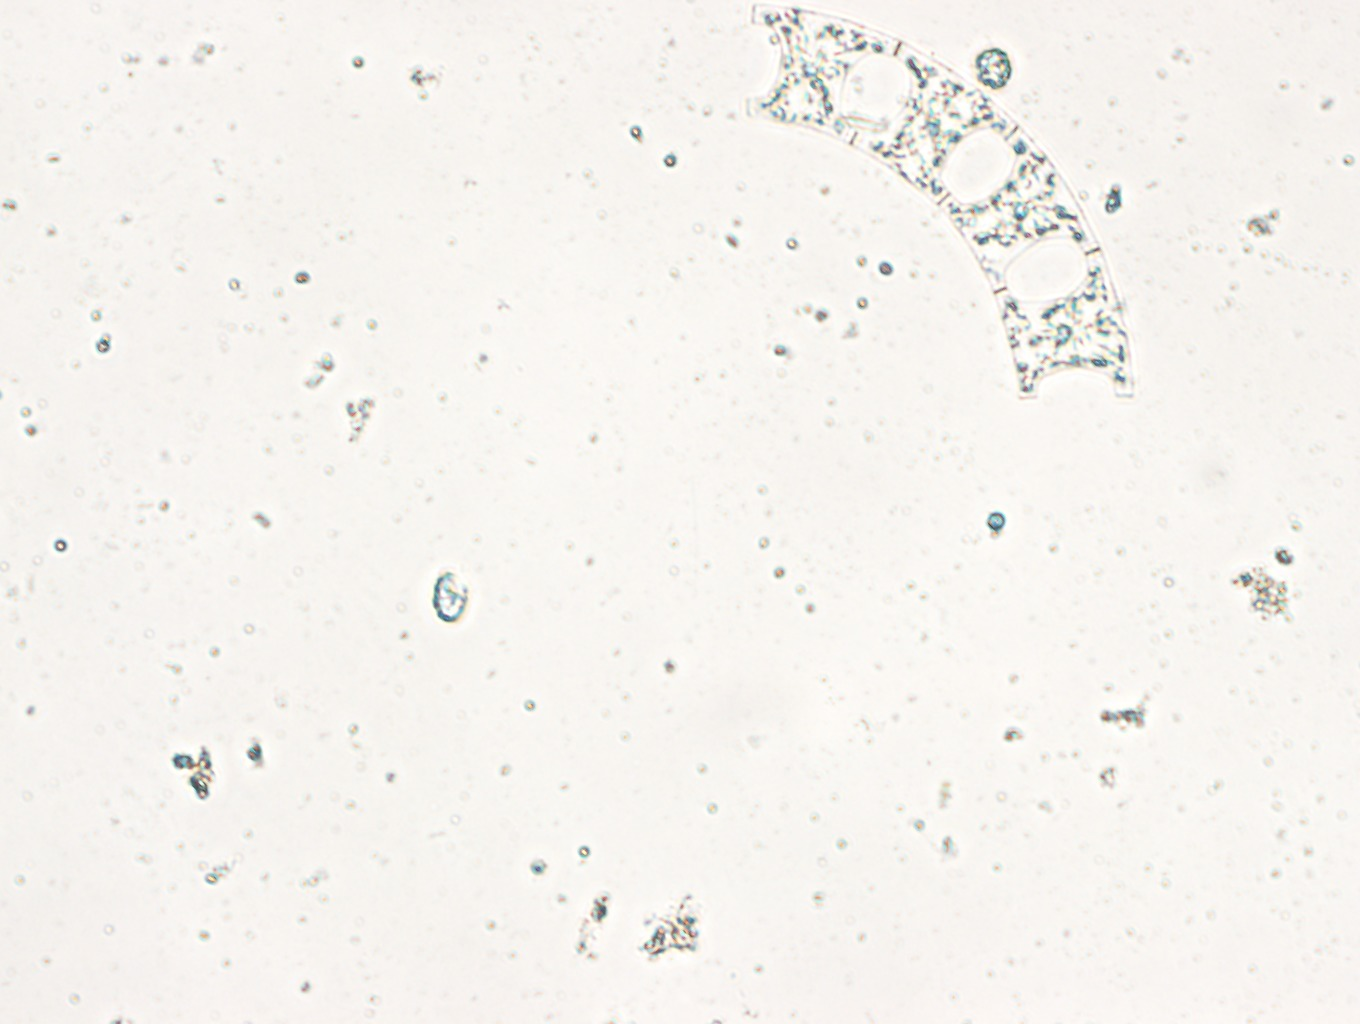eucampia: (732, 2, 1139, 406)
